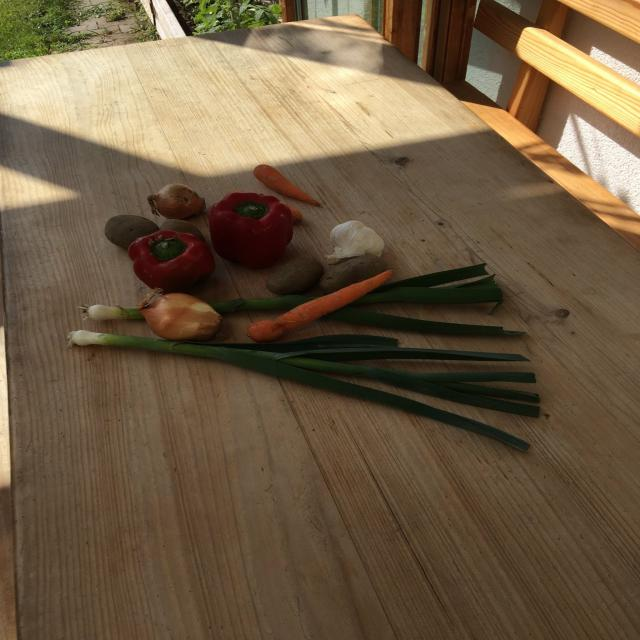Carrot: (250, 268, 397, 344), (248, 158, 328, 213)
Garlic bulb: (324, 218, 390, 264)
Leek: (60, 322, 548, 453), (55, 261, 538, 337)
Onion: (132, 285, 225, 342), (141, 180, 213, 220)
Pepper: (209, 186, 296, 270), (124, 228, 216, 292)
Potato: (98, 210, 165, 255), (265, 256, 329, 292)
